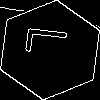L: (25, 25, 78, 58)
